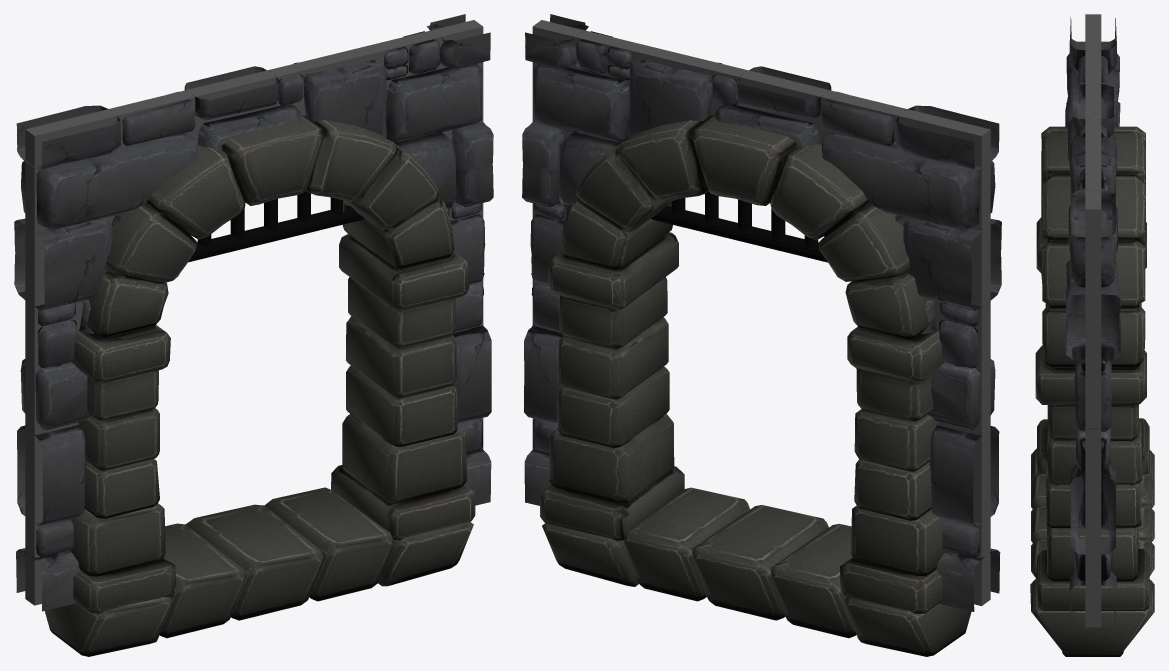
File: Arch_05_BarsTop.fbx
3 views of the same model, side by side, from view 1: azimuth 30°, elevation 25°; view 2: azimuth 150°, elevation 25°; view 3: azimuth 270°, elevation 25° (orthographic). The views are drawn at different scales.
Parts seen in each view (by area): view 1: Archway_Stone_BarsPartial; view 2: Archway_Stone_BarsPartial; view 3: Archway_Stone_BarsPartial.
Part boxes in pixels (box(x1,y1,x2,y2)): Archway_Stone_BarsPartial: box(14, 14, 493, 656); Archway_Stone_BarsPartial: box(522, 14, 1001, 656); Archway_Stone_BarsPartial: box(1030, 14, 1154, 656).
Bounding box in the file's own units: 302 × 336 × 80.96.
Materials: 4 (3 with a texture image).
